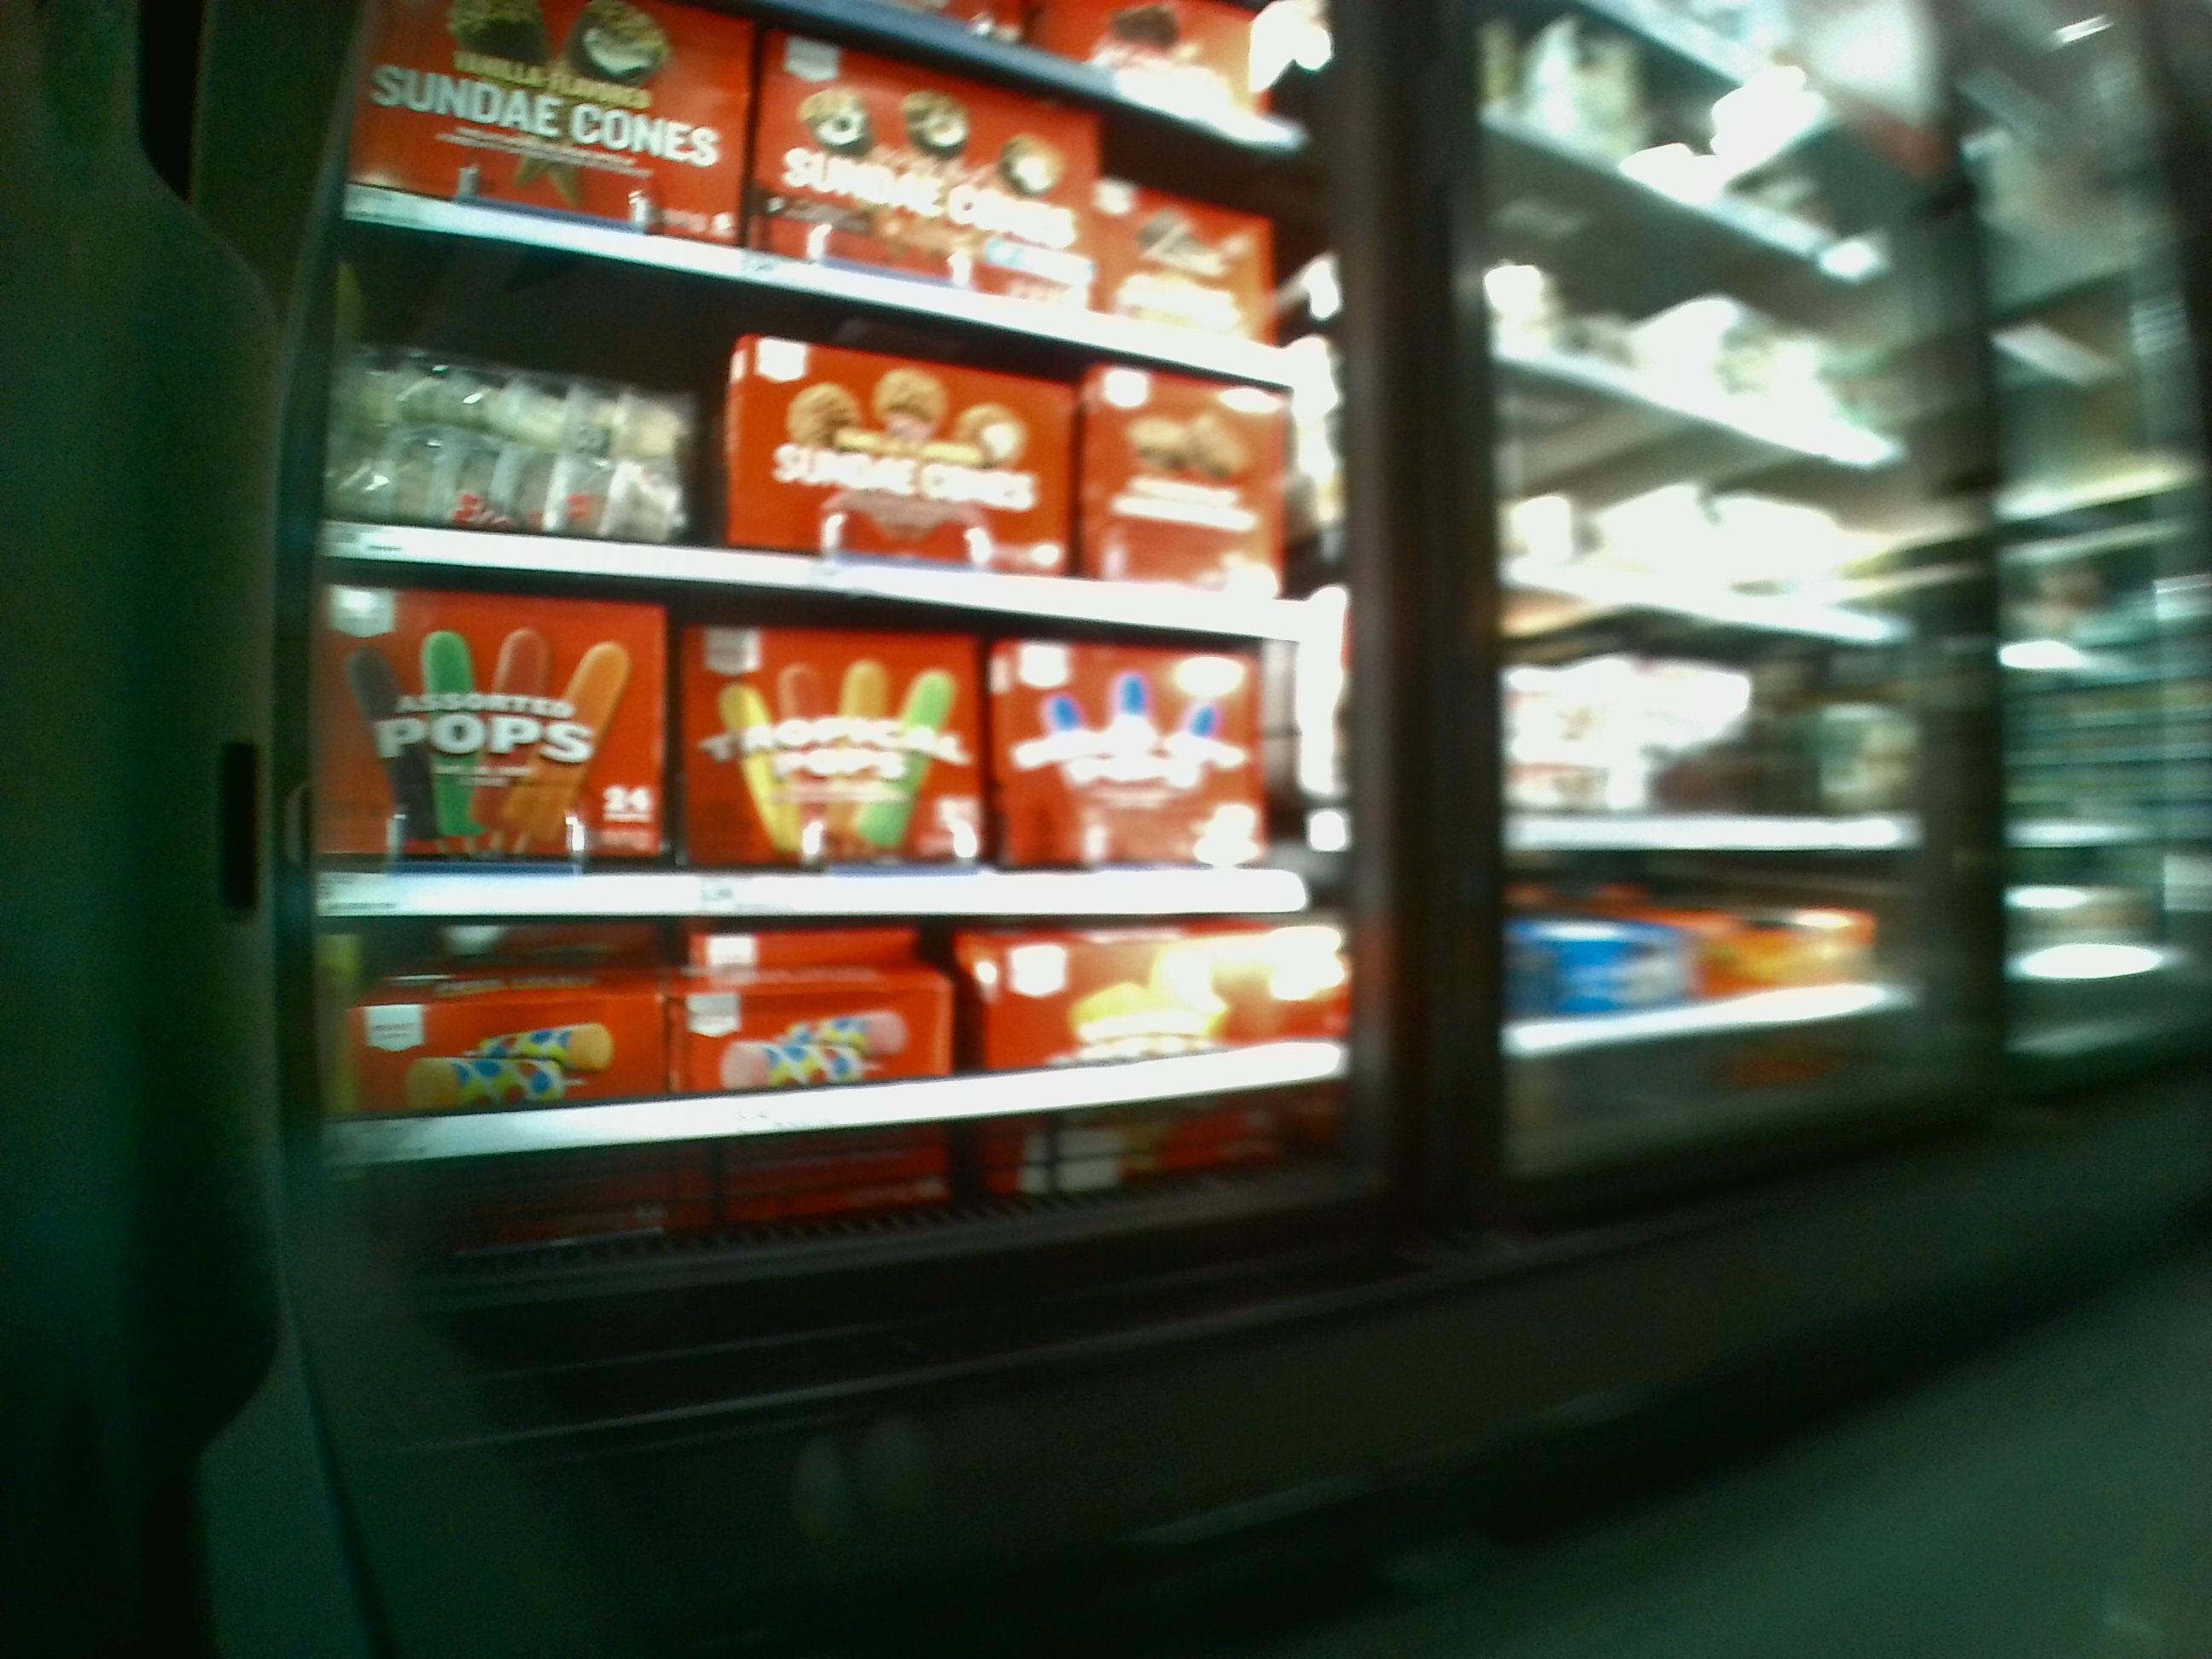shelf: (331, 225, 1334, 627), (287, 601, 1313, 925), (331, 931, 1367, 1199)
